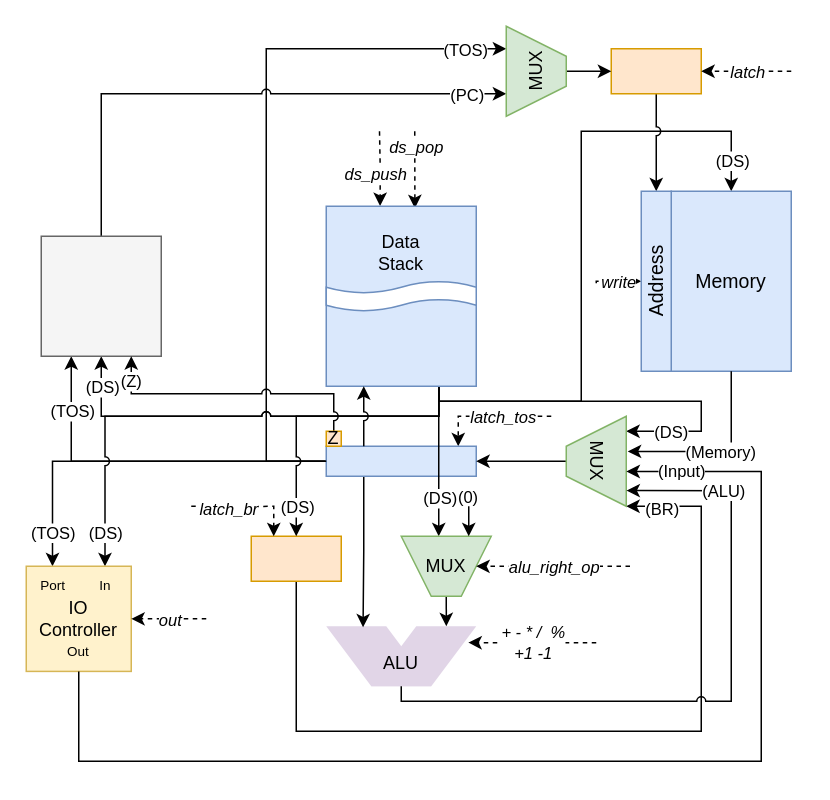
This 830x800 diagram has some shape labels left out. Here are the shapes that lost their labels. From the top down, the centre of each, then its label:
At pixel 655 70: "AR".
At pixel 100 295: "Control Unit".
At pixel 400 460: "TOS".
At pixel 295 558: "BR".
